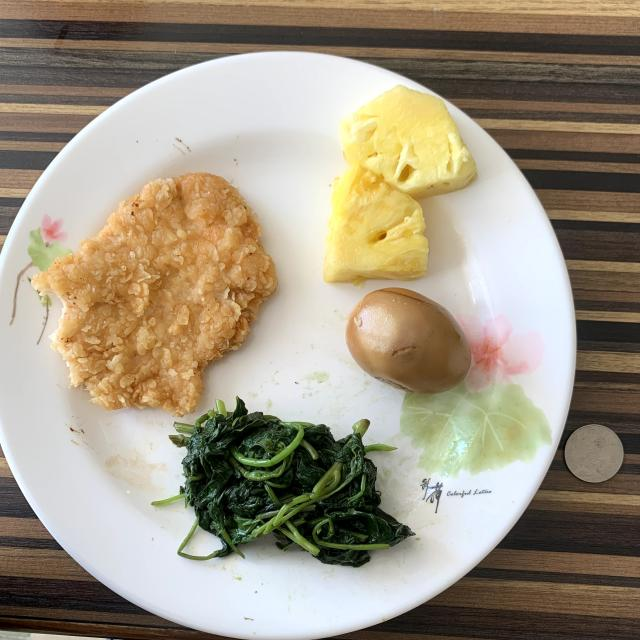coin: (565, 425, 624, 482)
fried chicken cutlet: (31, 172, 278, 416)
pineapple: (324, 85, 476, 282)
soy egg: (345, 288, 471, 394)
sweet potato leaves: (158, 399, 414, 568)
